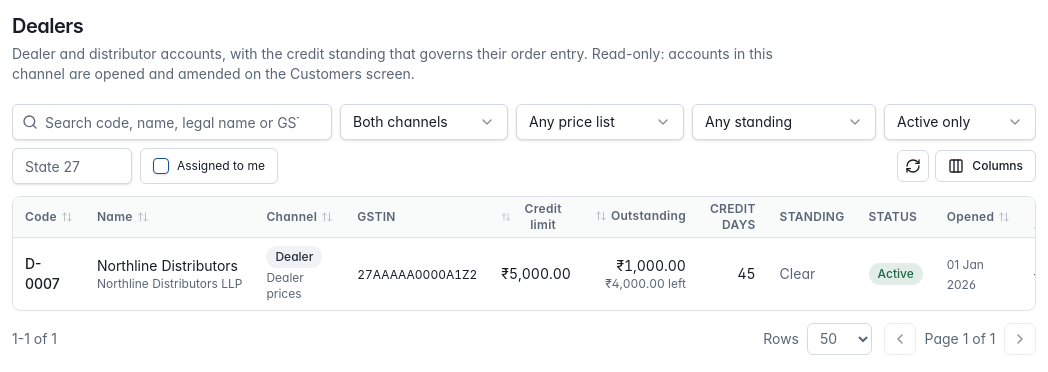
Test: the dealer list is read-only › offers only the two channels the endpoint accepts
The width and height of the screenshot is (1048, 372).
Click the dropdown named "Filter by channel": click(424, 122) [340, 104, 508, 140]
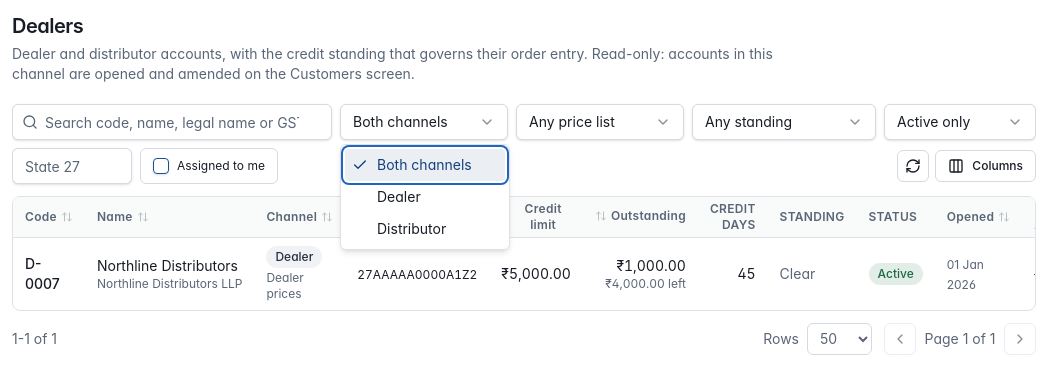
Result: the options read "Both channels", "Dealer", "Distributor", in this order at [345, 149, 505, 181]; [377, 188, 421, 205]; [377, 220, 446, 237]
